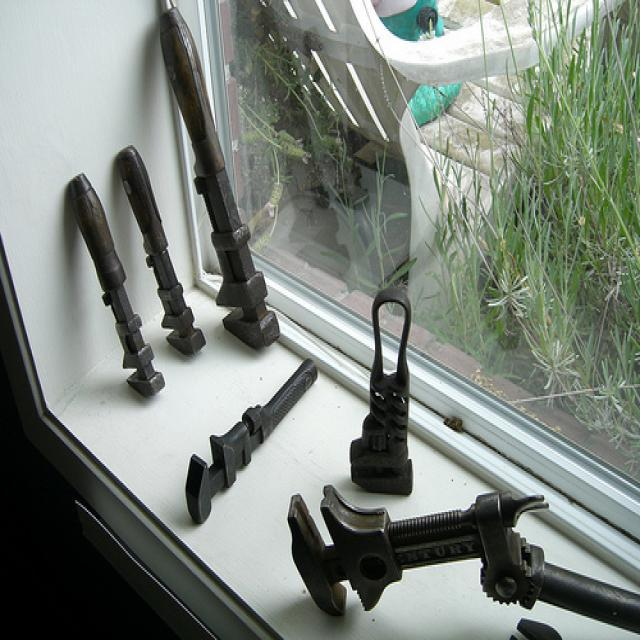wrench: (274, 468, 559, 618)
